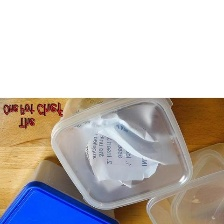plastic_box: (44, 98, 198, 214), (0, 155, 125, 224), (140, 136, 224, 224)
